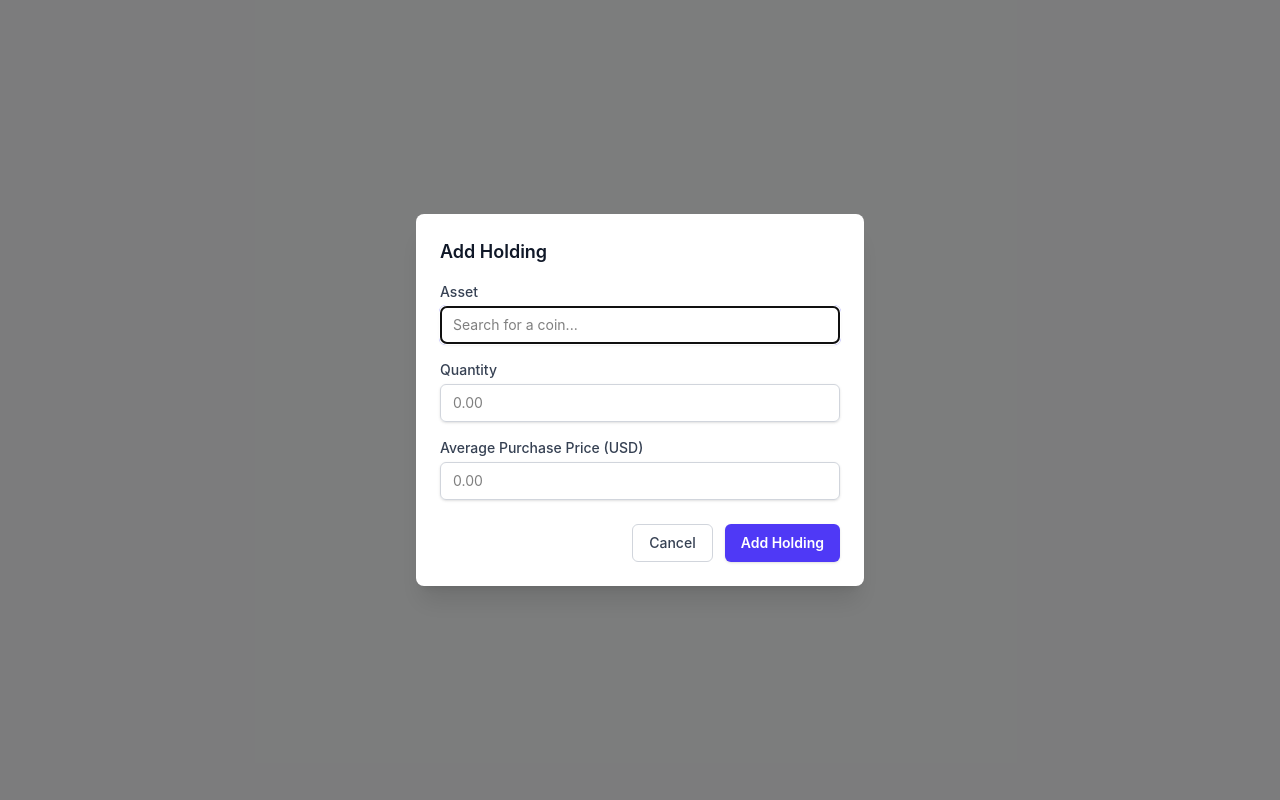
Test case: HoldingForm › shows validation errors when submitting empty form
Click the button "Add Holding" at (782, 543), box left=725, top=524, right=840, bottom=562
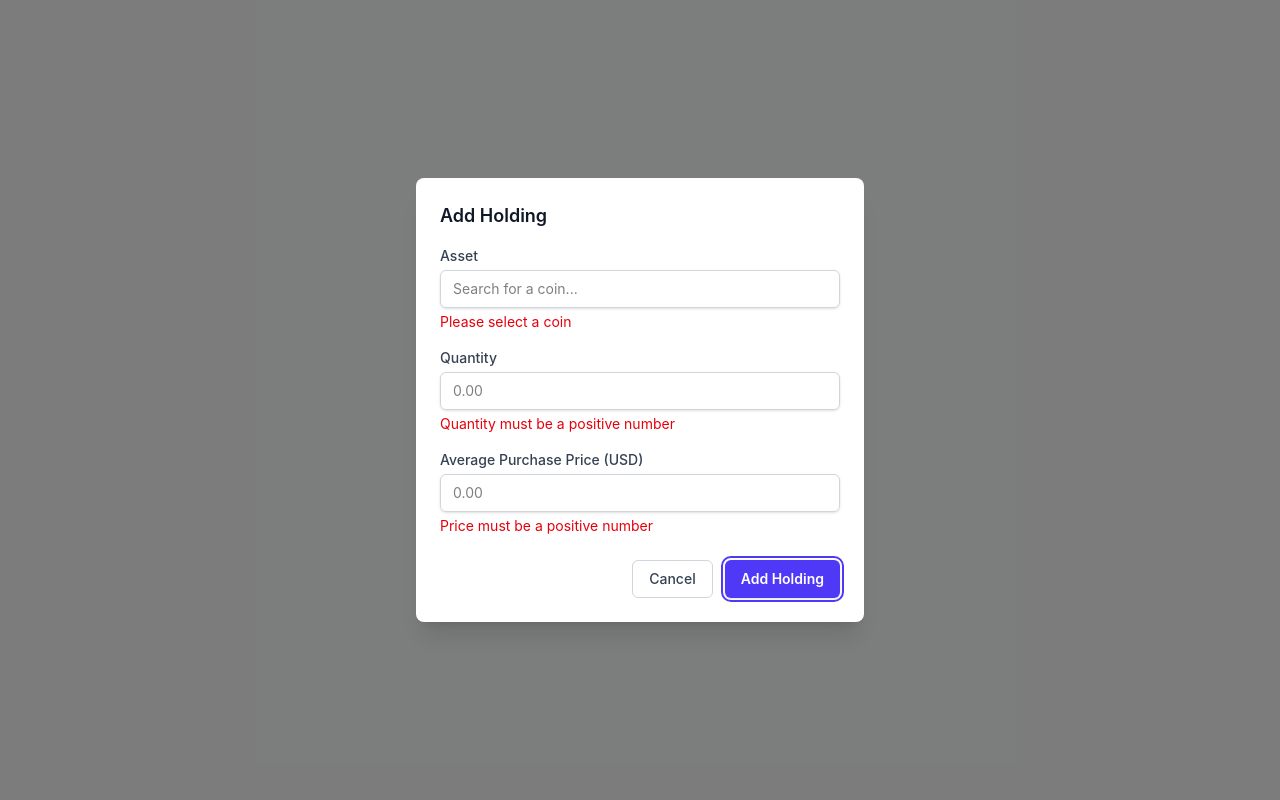
expect the text "Please select a coin" is shown: met, box left=440, top=313, right=572, bottom=330
expect the text "Quantity must be a positive number" is shown: met, box left=440, top=415, right=675, bottom=432
expect the text "Price must be a positive number" is shown: met, box left=440, top=517, right=653, bottom=534
